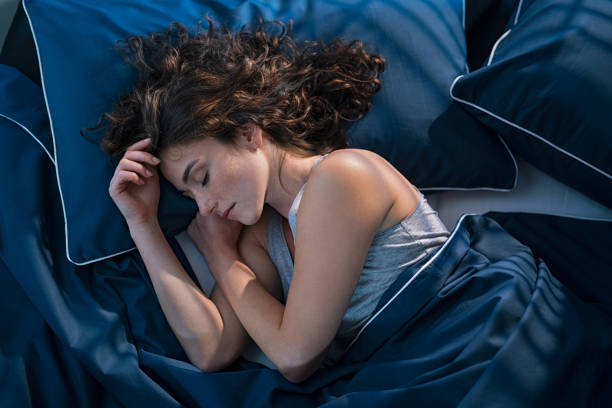without mask: (162, 127, 277, 233)
